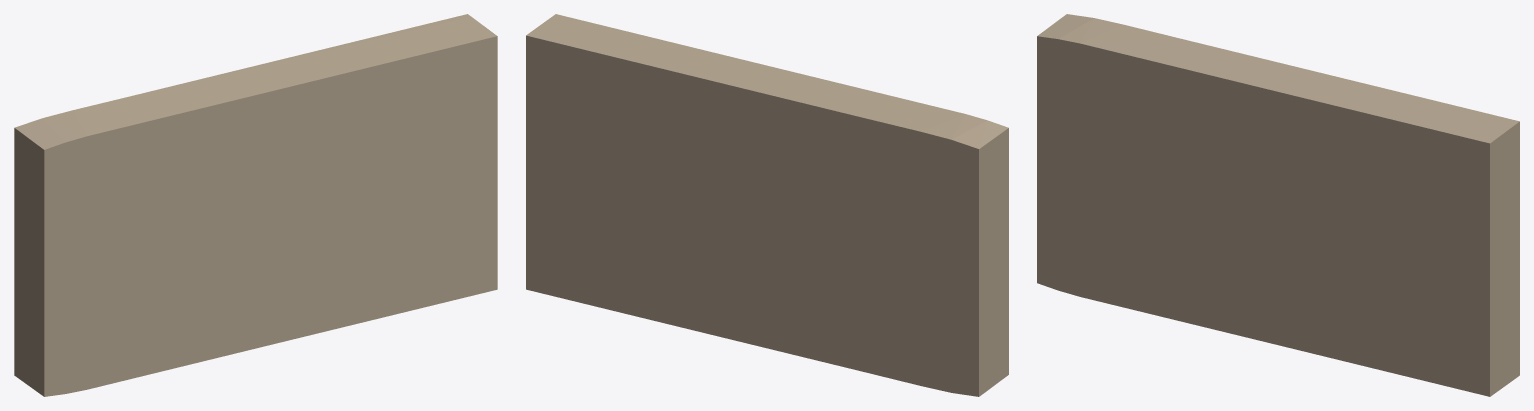
Rendered from T-CAN-PLUG1.glb.
3 renders of one model, left to right at view 1: azimuth 30°, elevation 25°; view 2: azimuth 150°, elevation 25°; view 3: azimuth 330°, elevation 25°, orthographic.
Parts seen in each view (by area): view 1: geometry_0; view 2: geometry_0; view 3: geometry_0.
Part boxes in pixels (x1,y1,x2,y2): geometry_0: (14, 14, 497, 396); geometry_0: (526, 14, 1008, 396); geometry_0: (1037, 14, 1519, 396).
Size of the model in its own units: 1705 by 914 by 194.
